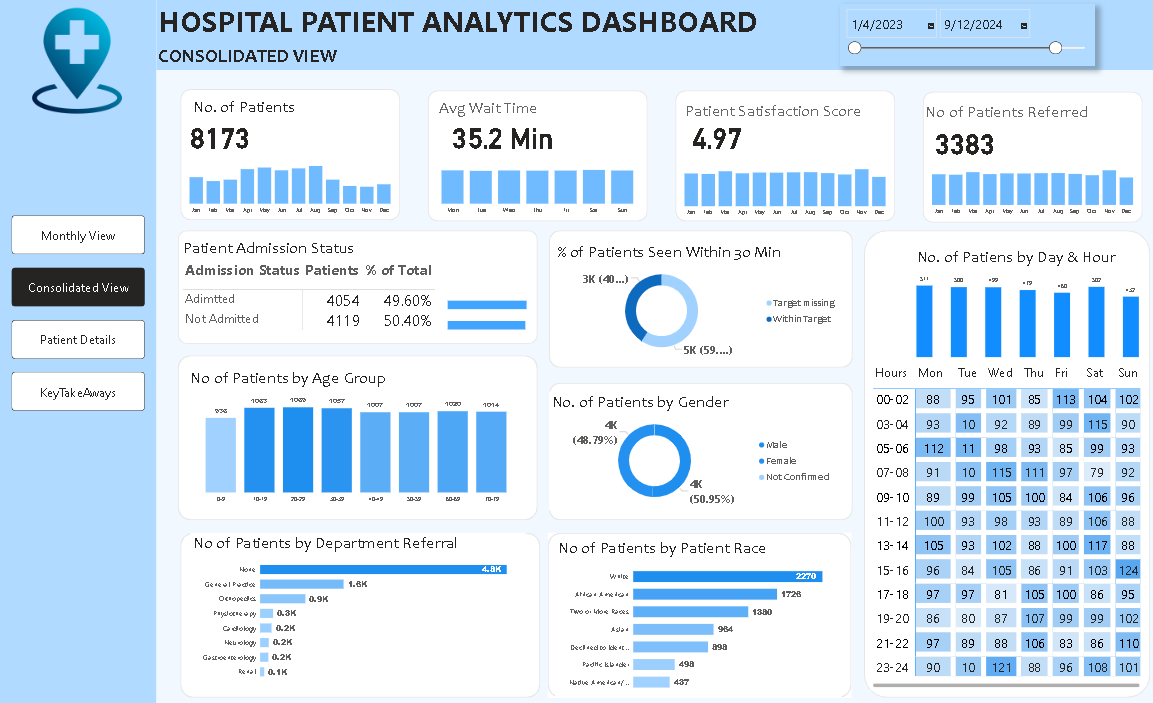

What the dashboard file says about the page in this screenshot:
{"tool":"powerbi","page":{"name":"Consolidated View","canvas":[2300,1400],"ordinal":1},"visuals":[{"type":"shape","box":[362.5,456.2,710.1,224.4],"z":0},{"type":"shape","box":[9.9,0,310,1400.5],"z":1000},{"type":"shape","box":[320.5,0,1980,140],"z":2000},{"type":"shape","box":[367.4,177.5,434,258.9],"z":3000},{"type":"textbox","box":[320.5,0,1511.5,101.1],"z":4000},{"type":"textbox","box":[283.6,83.8,434,56.7],"z":5000},{"type":"card","fields":{"Values":["Hospital ER_Data.No of Patients"]},"box":[367.4,221.9,155.3,91.2],"z":6000},{"type":"slicer","fields":{"Values":["Date Table.Date"]},"box":[1669.3,9.9,503,123.3],"z":7000},{"type":"textbox","box":[855.6,180,254,59.2],"z":8000},{"type":"columnChart","fields":{"Category":["Date Table.Month Name"],"Y":["Hospital ER_Data.No of Patients"]},"box":[367.4,310.7,434,123.3],"z":9000},{"type":"shape","box":[855.6,180,434,258.9],"z":10000},{"type":"shape","box":[1343.8,180,434,258.9],"z":11000},{"type":"shape","box":[1832,182.5,434,258.9],"z":12000},{"type":"textbox","box":[387.1,187.4,254,51.8],"z":13000},{"type":"textbox","box":[872.9,189.9,254,51.8],"z":14000},{"type":"card","fields":{"Values":["Hospital ER_Data.Avg Wait Time"]},"box":[875.3,221.9,254,91.2],"z":15000},{"type":"columnChart","fields":{"Category":["Date Table.Day Name"],"Y":["Avg(Hospital ER_Data.Patient Waittime)"]},"box":[855.6,315.6,434,118.4],"z":16000},{"type":"textbox","box":[1358.6,194.8,401.9,51.8],"z":17000},{"type":"textbox","box":[1832,197.3,367.4,51.8],"z":18000},{"type":"card","fields":{"Values":["Hospital ER_Data.Satisfaction Score"]},"box":[1343.8,221.9,165.2,91.2],"z":19000},{"type":"columnChart","fields":{"Category":["Date Table.Month Name"],"Y":["Hospital ER_Data.Satisfaction Score"]},"box":[1343.8,315.6,434,123.3],"z":20000},{"type":"columnChart","fields":{"Category":["Date Table.Month Name"],"Y":["Hospital ER_Data.Satisfaction Score"]},"box":[1832,318.1,434,118.4],"z":21000},{"type":"card","fields":{"Values":["Hospital ER_Data.No. of Patience Referred"]},"box":[1832,234.2,165.2,91.2],"z":22000},{"type":"pivotTable","title":"Patient Admission Status","fields":{"Rows":["Hospital ER_Data.Admission Status"],"Values":["Hospital ER_Data.No of Patients1","Hospital ER_Data.No of Patients"]},"box":[367.4,470.9,584.4,199.7],"z":23000},{"type":"barChart","fields":{"Category":["Hospital ER_Data.Admission Status"],"Y":["Hospital ER_Data.No of Patients"]},"box":[890.1,562.2,236.7,118.4],"z":24000},{"type":"shape","box":[362.5,702.7,710.1,325.5],"z":25000},{"type":"shape","box":[1716.1,456.2,564.6,922.2],"z":26000},{"type":"clusteredColumnChart","fields":{"Category":["Hospital ER_Data.Age Group"],"Y":["Hospital ER_Data.No of Patients"]},"box":[382.2,727.4,665.7,276.2],"z":27000},{"type":"shape","box":[367.4,1052.9,710.1,325.5],"z":28000},{"type":"clusteredBarChart","fields":{"Category":["Hospital ER_Data.Department Referral"],"Y":["Hospital ER_Data.No of Patients"]},"box":[387.1,1052.9,660.8,300.8],"z":29000},{"type":"shape","box":[1094.8,456.2,599.2,271.2],"z":30000},{"type":"shape","box":[1092.3,1052.9,599.2,325.5],"z":31000},{"type":"donutChart","title":"% of Patients Seen Within 30 Min","fields":{"Category":["Hospital ER_Data.Waittime Status"],"Y":["Hospital ER_Data.No of Patients"]},"box":[1107.1,478.3,564.6,234.2],"z":32000},{"type":"shape","box":[1094.8,757,599.2,271.2],"z":33000},{"type":"donutChart","title":"No. of Patients by Gender","fields":{"Y":["Hospital ER_Data.No of Patients"],"Category":["Hospital ER_Data.Patient Gender"]},"box":[1094.8,774.2,564.6,234.2],"z":34000},{"type":"clusteredBarChart","fields":{"Y":["Hospital ER_Data.No of Patients"],"Category":["Hospital ER_Data.Patient Race"]},"box":[1107.1,1062.7,564.6,315.6],"z":35000},{"type":"pivotTable","fields":{"Rows":["Hospital ER_Data.Waittime Interval"],"Columns":["Date Table.Day Name"],"Values":["Hospital ER_Data.No of Patients"]},"box":[1728.5,712.6,537.5,650.9],"z":36000},{"type":"columnChart","title":"No. of Patiens by Day & Hour","fields":{"Category":["Date Table.Day Name"],"Y":["Hospital ER_Data.No. of Patience Referred"]},"box":[1814.8,488.2,451.2,224.4],"z":37000},{"type":"image","box":[54.2,9.9,219.4,224.4],"z":38000},{"type":"pageNavigator","box":[34.5,426.6,263.8,387.1],"z":39000}]}

Visuals, with their boxes in screenshot pixels (x1, y1, x2, y2), scaled from the page's 2300x1400 canvas onto the 1153x703 screenshot:
shape: region(182, 229, 538, 342)
shape: region(5, 0, 160, 702)
shape: region(161, 0, 1152, 70)
shape: region(184, 89, 402, 219)
textbox: region(161, 0, 918, 51)
textbox: region(142, 42, 360, 71)
card - Hospital ER_Data.No of Patients: region(184, 111, 262, 157)
slicer - Date Table.Date: region(837, 5, 1089, 67)
textbox: region(429, 90, 556, 120)
columnChart - Date Table.Month Name x Hospital ER_Data.No of Patients: region(184, 156, 402, 218)
shape: region(429, 90, 646, 220)
shape: region(674, 90, 891, 220)
shape: region(918, 92, 1136, 222)
textbox: region(194, 94, 321, 120)
textbox: region(438, 95, 565, 121)
card - Hospital ER_Data.Avg Wait Time: region(439, 111, 566, 157)
columnChart - Date Table.Day Name x Avg(Hospital ER_Data.Patient Waittime): region(429, 158, 646, 218)
textbox: region(681, 98, 883, 124)
textbox: region(918, 99, 1103, 125)
card - Hospital ER_Data.Satisfaction Score: region(674, 111, 756, 157)
columnChart - Date Table.Month Name x Hospital ER_Data.Satisfaction Score: region(674, 158, 891, 220)
columnChart - Date Table.Month Name x Hospital ER_Data.Satisfaction Score: region(918, 160, 1136, 219)
card - Hospital ER_Data.No. of Patience Referred: region(918, 118, 1001, 163)
"Patient Admission Status" pivotTable: region(184, 236, 477, 337)
barChart - Hospital ER_Data.Admission Status x Hospital ER_Data.No of Patients: region(446, 282, 565, 342)
shape: region(182, 353, 538, 516)
shape: region(860, 229, 1143, 692)
clusteredColumnChart - Hospital ER_Data.Age Group x Hospital ER_Data.No of Patients: region(192, 365, 525, 504)
shape: region(184, 529, 540, 692)
clusteredBarChart - Hospital ER_Data.Department Referral x Hospital ER_Data.No of Patients: region(194, 529, 525, 680)
shape: region(549, 229, 849, 365)
shape: region(548, 529, 848, 692)
"% of Patients Seen Within 30 Min" donutChart: region(555, 240, 838, 358)
shape: region(549, 380, 849, 516)
"No. of Patients by Gender" donutChart: region(549, 389, 832, 506)
clusteredBarChart - Hospital ER_Data.No of Patients x Hospital ER_Data.Patient Race: region(555, 534, 838, 692)
pivotTable - Hospital ER_Data.Waittime Interval x Date Table.Day Name: region(867, 358, 1136, 685)
"No. of Patiens by Day & Hour" columnChart: region(910, 245, 1136, 358)
image: region(27, 5, 137, 118)
pageNavigator: region(17, 214, 150, 409)
